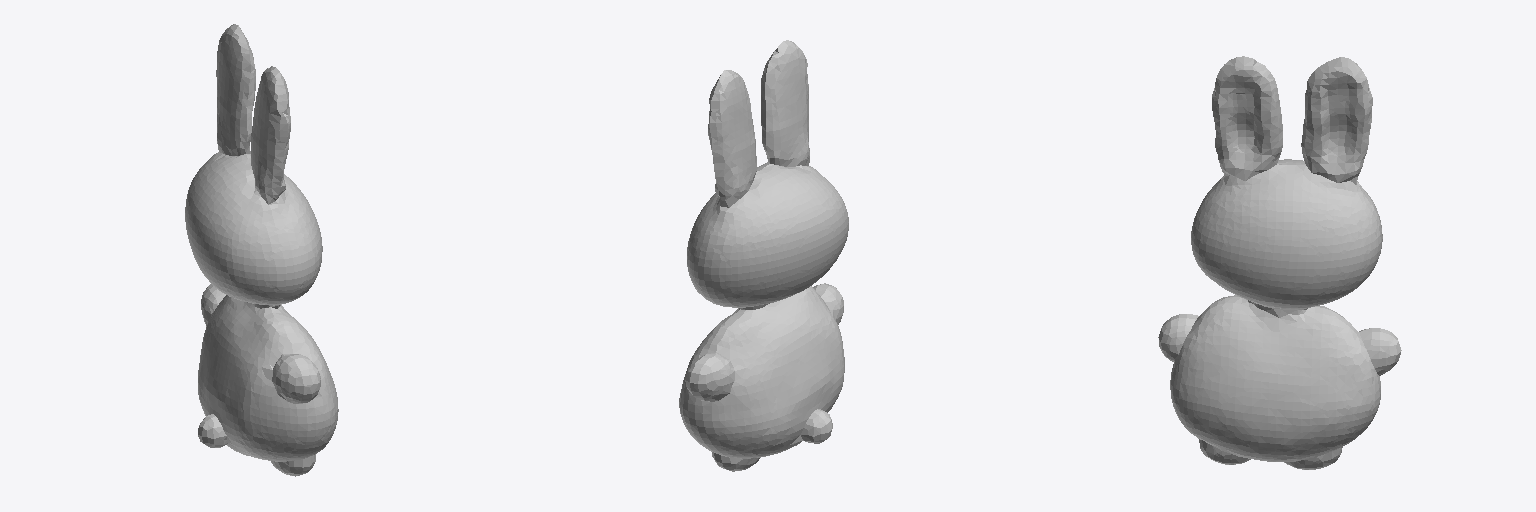
The model's file is rabbit_aug_5.obj.
3 views of the same model, side by side, from view 1: azimuth 30°, elevation 25°; view 2: azimuth 150°, elevation 25°; view 3: azimuth 270°, elevation 25° (orthographic).
Size of the model in its own units: 28.95 by 94.47 by 50.63.